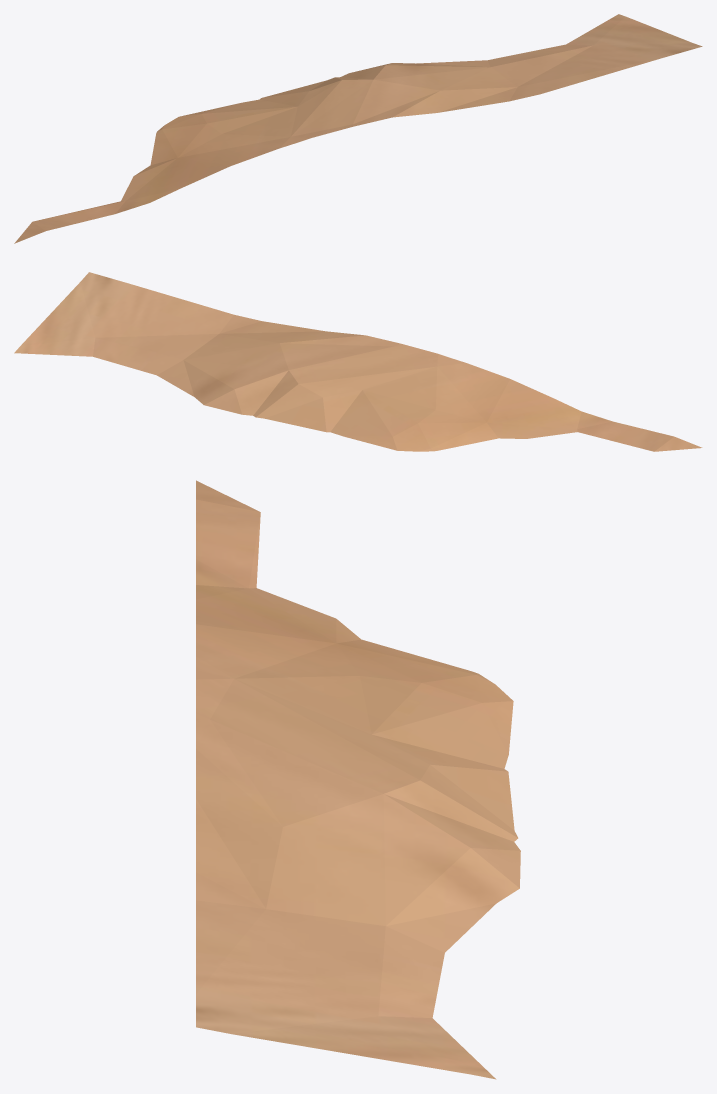
3 views of the same model, one above another, from view 1: azimuth 30°, elevation 25°; view 2: azimuth 150°, elevation 25°; view 3: azimuth 270°, elevation 25° (orthographic). The views are drawn at different scales.
Size of the model in its own units: 0.6922 by 0.033 by 0.1586.
1 material, 1 textured.
